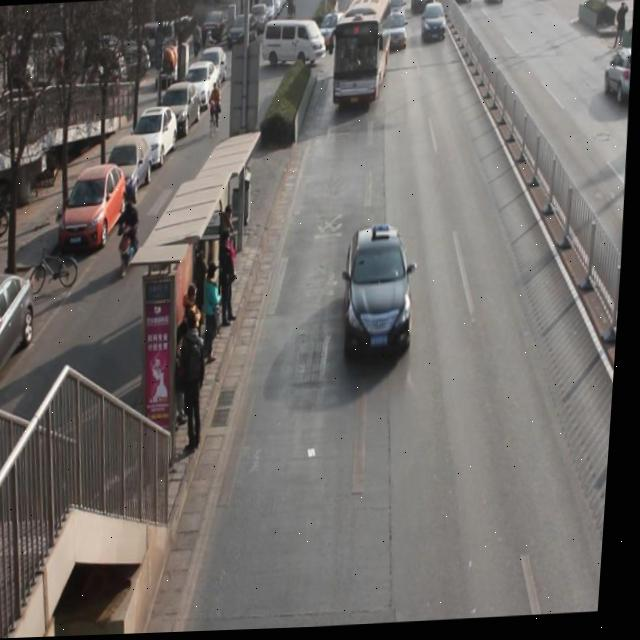car: (342, 228, 427, 361), (607, 51, 633, 111), (420, 3, 449, 48), (323, 14, 347, 51), (384, 17, 409, 52), (385, 0, 407, 29), (481, 0, 506, 12), (411, 0, 434, 13), (452, 0, 472, 7)
van: (331, 0, 391, 109)
